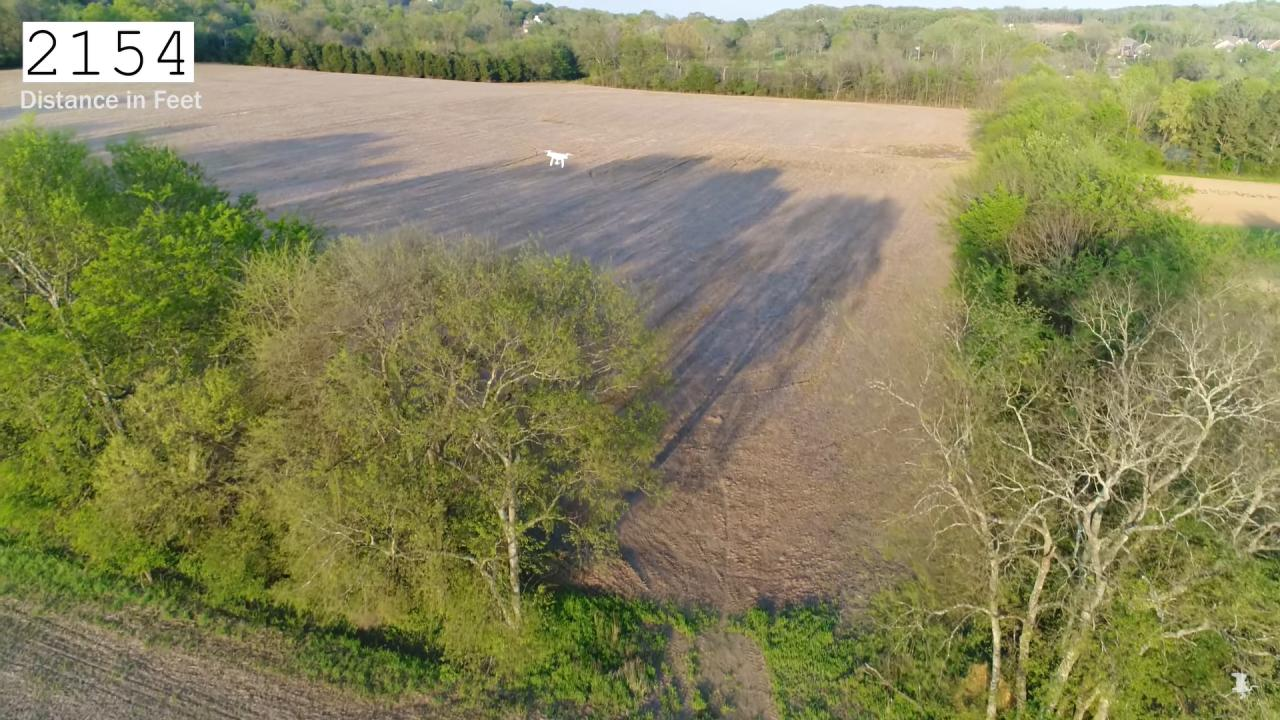Drone: (534, 137, 582, 178)
